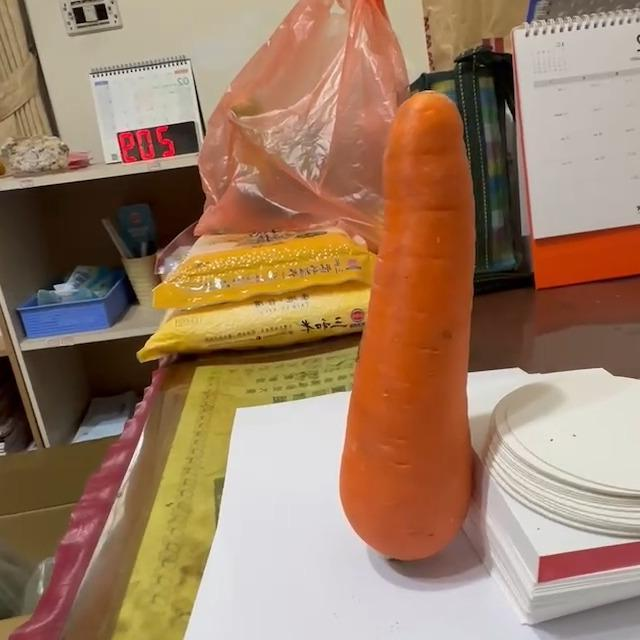carrot: (339, 89, 481, 565)
